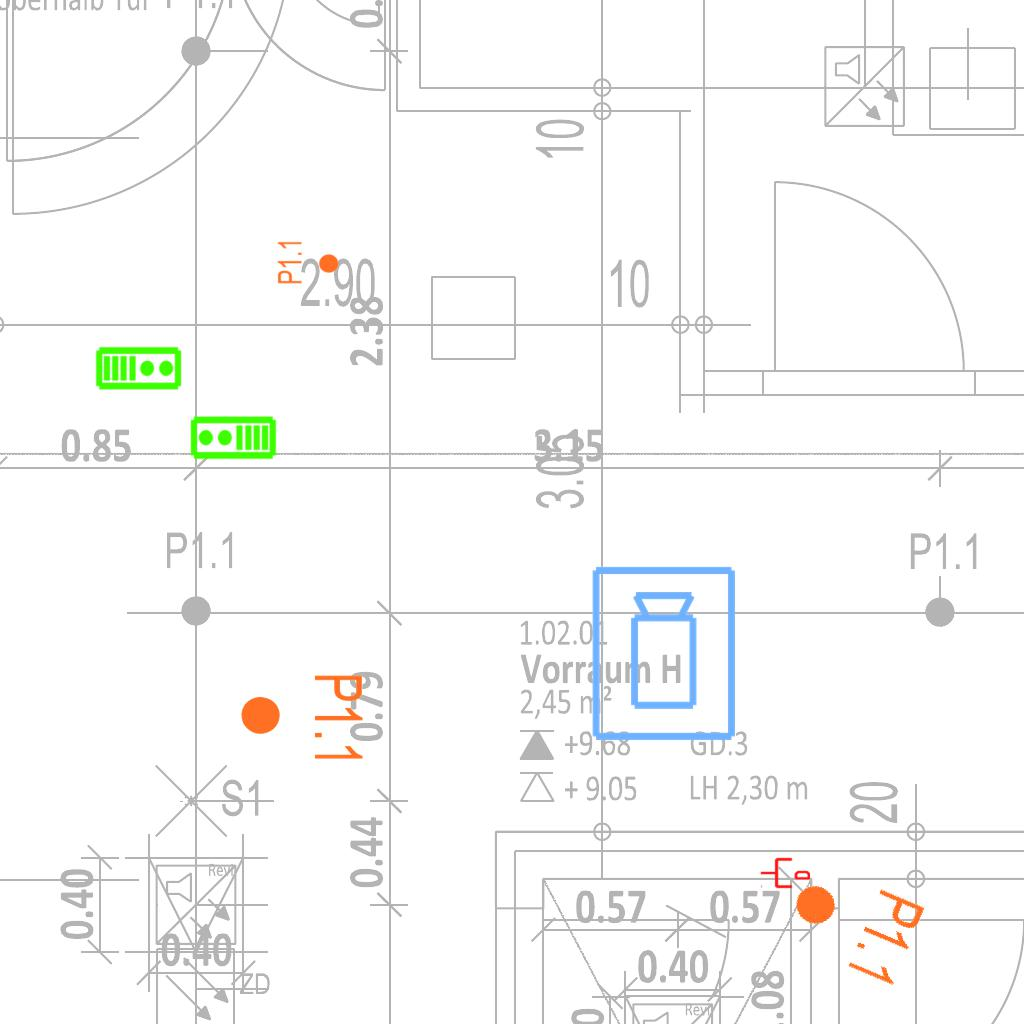Datenanschluss_einfach: (760, 856, 810, 890)
Downlight_LED_Einbauleuchten_Flur: (775, 856, 930, 992), (238, 672, 366, 765), (276, 239, 340, 285)
Gegensprechanlage_mit_Video: (95, 344, 183, 391), (189, 415, 277, 462)
KFO_Kamera_mit_Festobjektiv: (588, 563, 742, 745)
